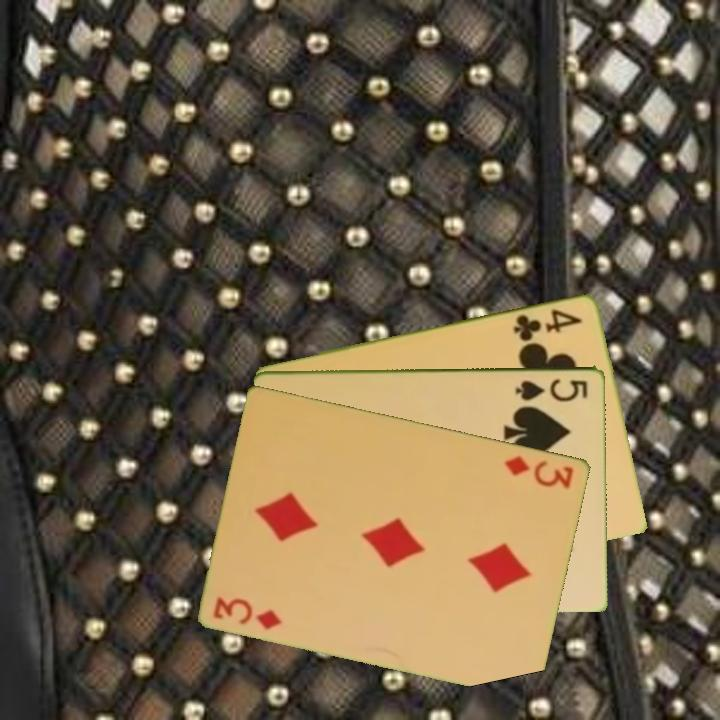3d: (502, 451, 577, 491), (210, 593, 286, 632)
4c: (510, 305, 585, 344)
5s: (512, 375, 591, 403)
